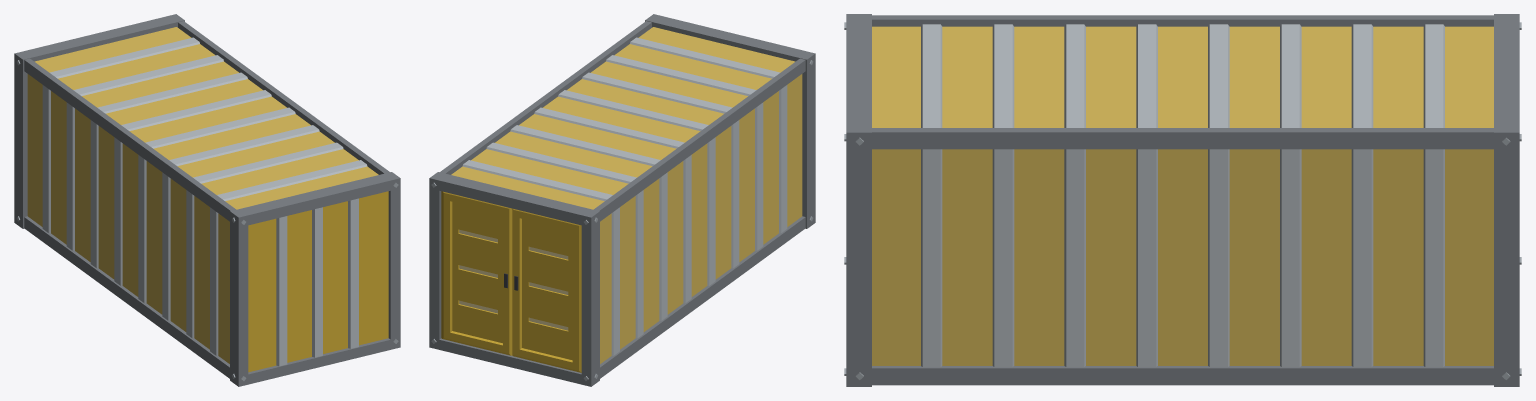
Rendered from SM_Container.fbx.
3 views of the same model, side by side, from view 1: azimuth 30°, elevation 25°; view 2: azimuth 150°, elevation 25°; view 3: azimuth 270°, elevation 25° (orthographic). The views are drawn at different scales.
Parts seen in each view (by area): view 1: SM_Container_LOD0; view 2: SM_Container_LOD0; view 3: SM_Container_LOD0.
Part boxes in pixels (box(x1,y1,x2,y2)): SM_Container_LOD0: box(14, 14, 400, 386); SM_Container_LOD0: box(429, 14, 815, 386); SM_Container_LOD0: box(844, 14, 1521, 386).
Size of the model in its own units: 253 by 603 by 250.
1 material, 1 textured.
